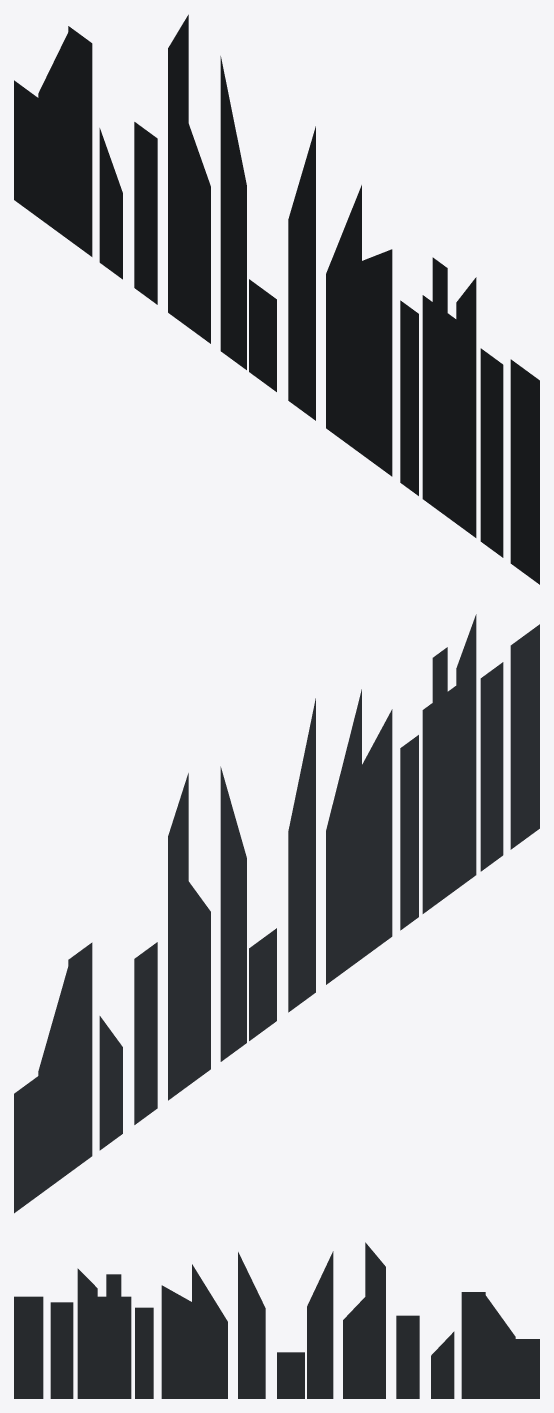
File: env_shore_card_b.fbx
3 views of the same model, one above another, from view 1: azimuth 30°, elevation 25°; view 2: azimuth 150°, elevation 25°; view 3: azimuth 270°, elevation 25° (orthographic). The views are drawn at different scales.
Visible parts, largest first — view 1: env_shore_card_b; view 2: env_shore_card_b; view 3: env_shore_card_b.
Part boxes in pixels (bbox=[...]): env_shore_card_b: bbox=[14, 14, 539, 584]; env_shore_card_b: bbox=[14, 614, 539, 1213]; env_shore_card_b: bbox=[14, 1242, 539, 1398].
Bounding box in the file's own units: 0 × 13574 × 41237.
